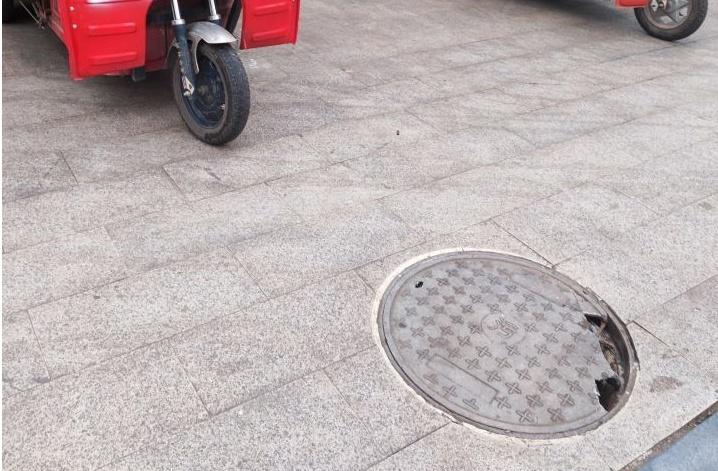wellcover: (357, 222, 657, 455)
